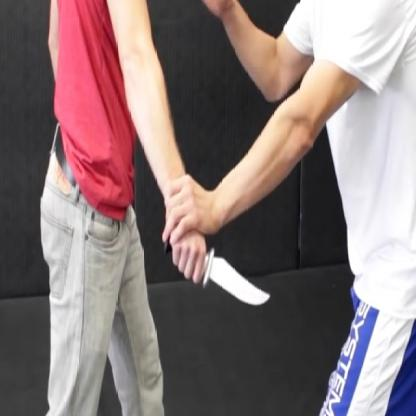knife: (162, 238, 274, 318)
